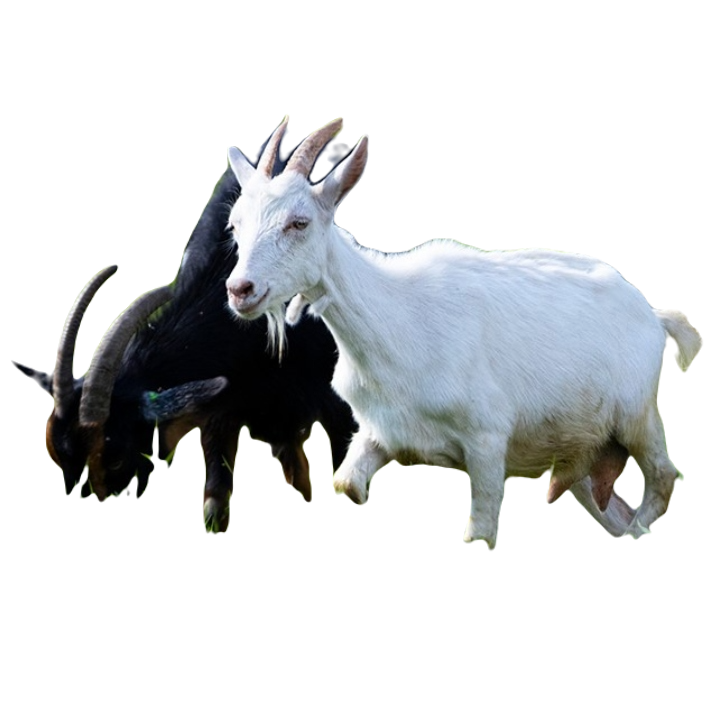Goat: (225, 114, 699, 552)
